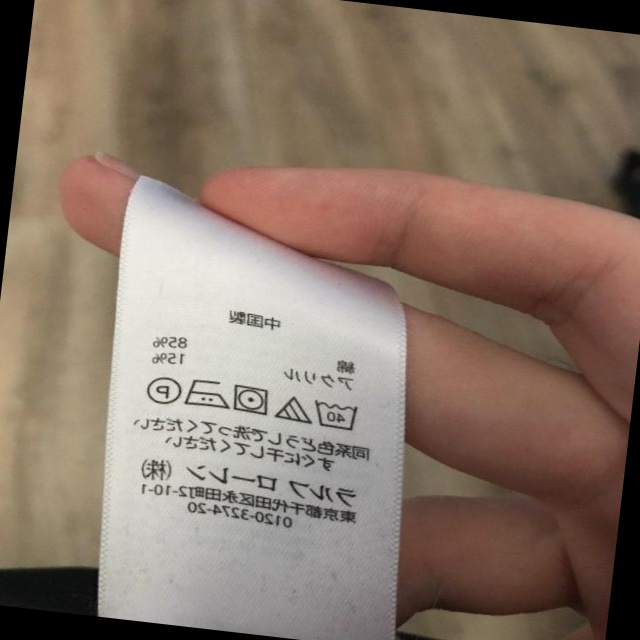40C: (308, 396, 364, 435)
dry_clean_any_solvent_except_trichloroethylene: (144, 374, 184, 406)
iron_medium: (180, 375, 231, 411)
non_chlorine_bleach: (273, 393, 316, 429)
tumble_dry_low: (228, 380, 273, 420)
